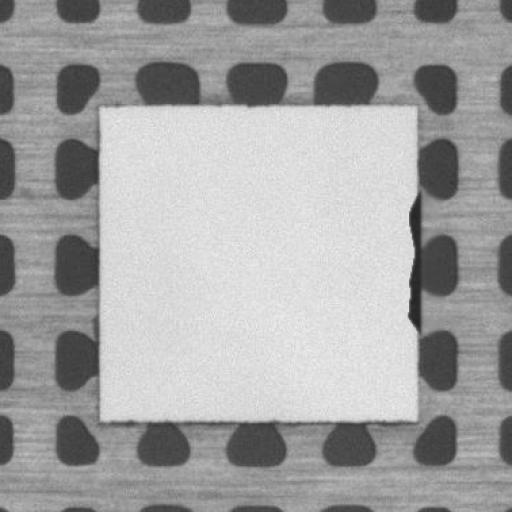DIE_BROKEN: (402, 194, 423, 330)
